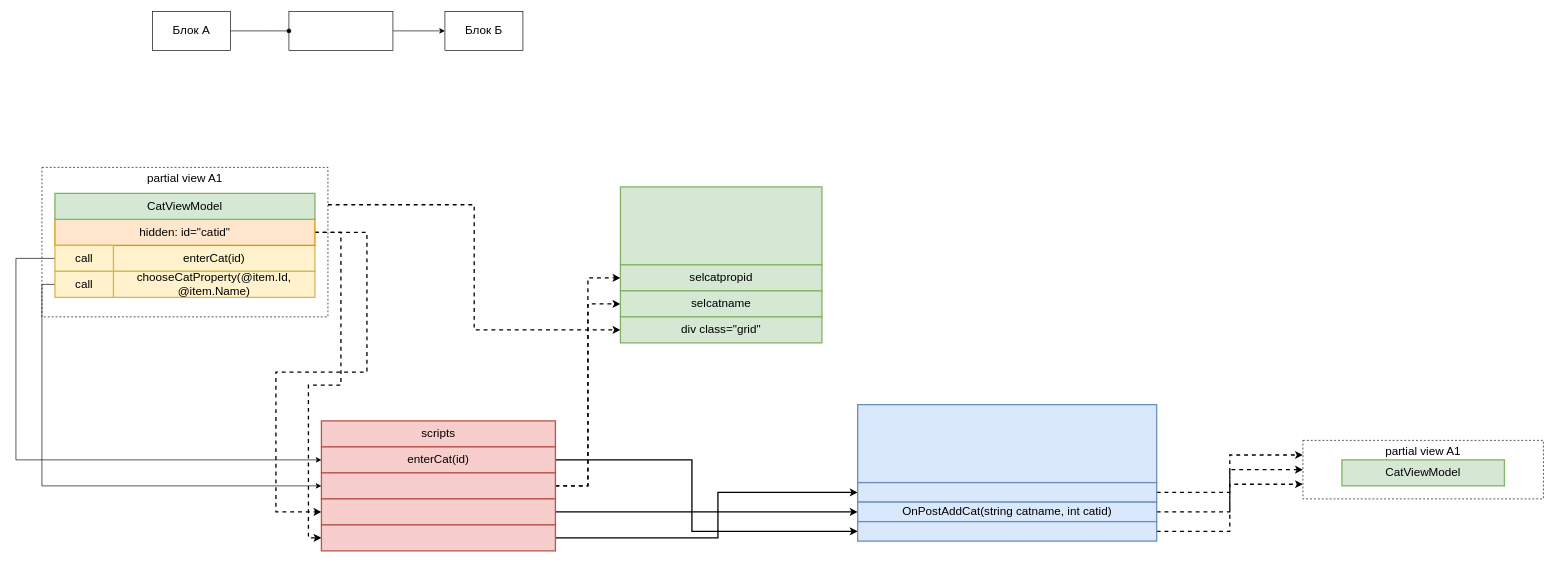
The diagram is 1555 pixels wide and 563 high, and some of its shapes have lost their labels. The shapes that lost their labels are listed below. From the top down, each one's centre as x and y in pixels, then its label:
At [340,30]: "Набор переменных проводок под увеличителем".
At [720,225]: "cat/html".
At [1007,443]: "cat/model".
At [438,485]: "chooseCatProperty(propid, propname)".
At [1007,492]: "OnPostAddProperty(string catpropertyname, int catid)".
At [438,511]: "document.forms.newcatform.onsubmit".
At [1007,531]: "OnGetEnterCatPartial(int catid)".
At [438,537]: "document.forms.catproperty.onsubmit".
